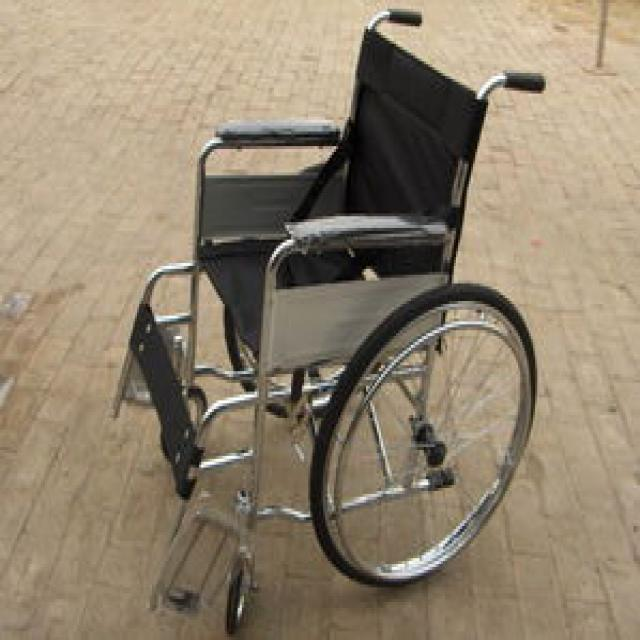wheelchair: (109, 3, 550, 637)
